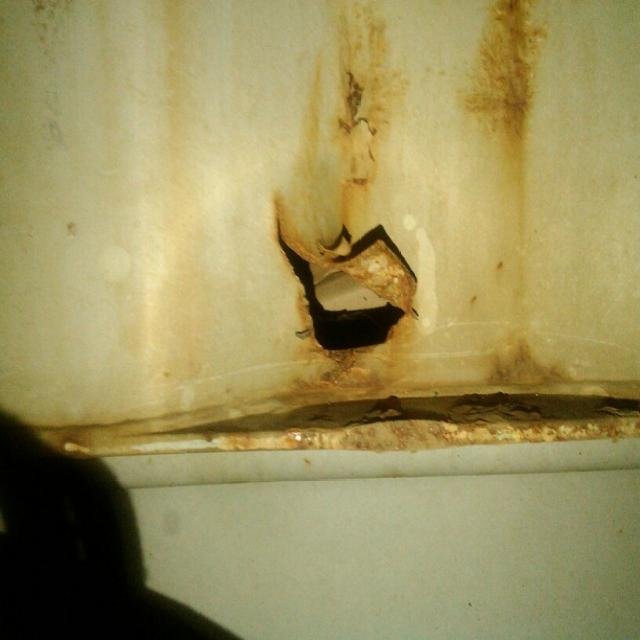hole: (271, 191, 447, 365)
